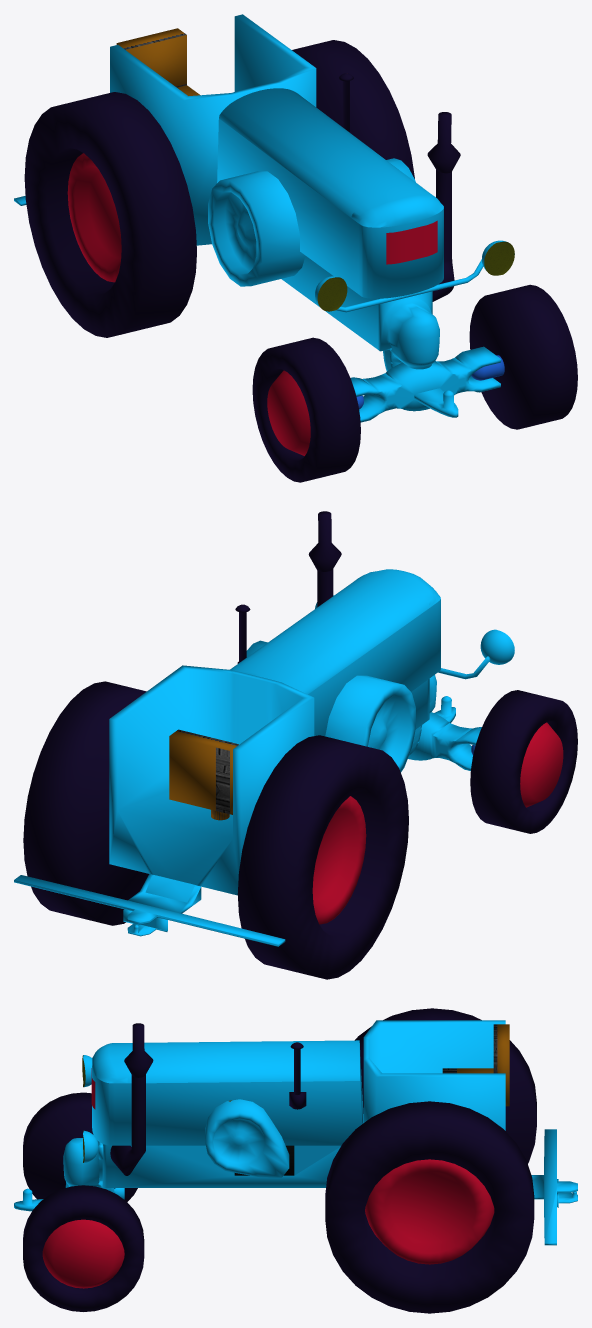
File: modelLanz8Bit.obj
The picture shows the model from 3 angles, top to bottom: view 1: azimuth 30°, elevation 25°; view 2: azimuth 150°, elevation 25°; view 3: azimuth 270°, elevation 25°; orthographic projection. The views are drawn at different scales.
Bounding box in the file's own units: 2.16 × 2.24 × 4.44.
